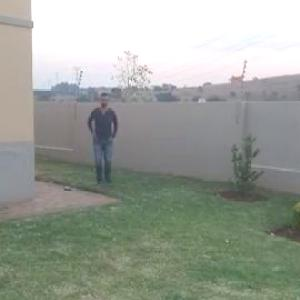follow: (85, 90, 119, 189)
